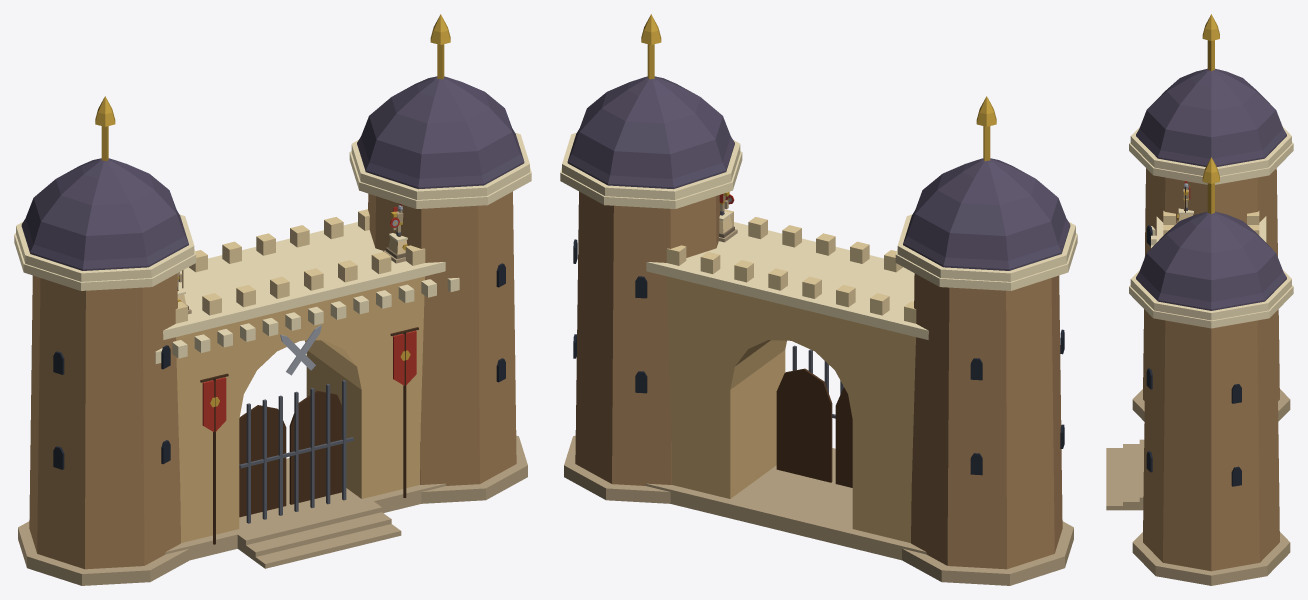
File: wall_gate_main.fbx
3 views of the same model, side by side, from view 1: azimuth 30°, elevation 25°; view 2: azimuth 150°, elevation 25°; view 3: azimuth 270°, elevation 25° (orthographic). The views are drawn at different scales.
Visible parts, largest first — view 1: wall_gate_main; view 2: wall_gate_main; view 3: wall_gate_main.
Part boxes in pixels (bbox=[...]): wall_gate_main: bbox=[14, 14, 531, 585]; wall_gate_main: bbox=[560, 14, 1077, 585]; wall_gate_main: bbox=[1106, 14, 1293, 585].
Bounding box in the file's own units: 22 × 19.1 × 8.2.
Materials: 1 (1 with a texture image).
